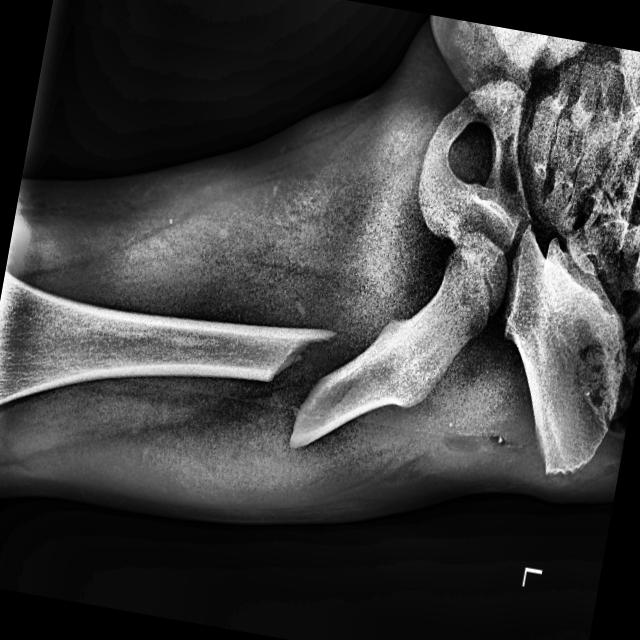Fracture: (250, 310, 359, 460)
